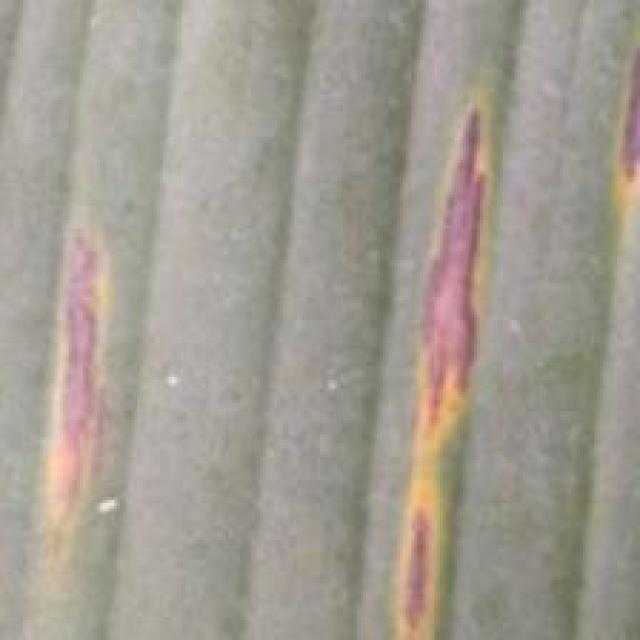Early_leaf_spot: (370, 93, 504, 640), (33, 199, 125, 548), (593, 9, 640, 202)
